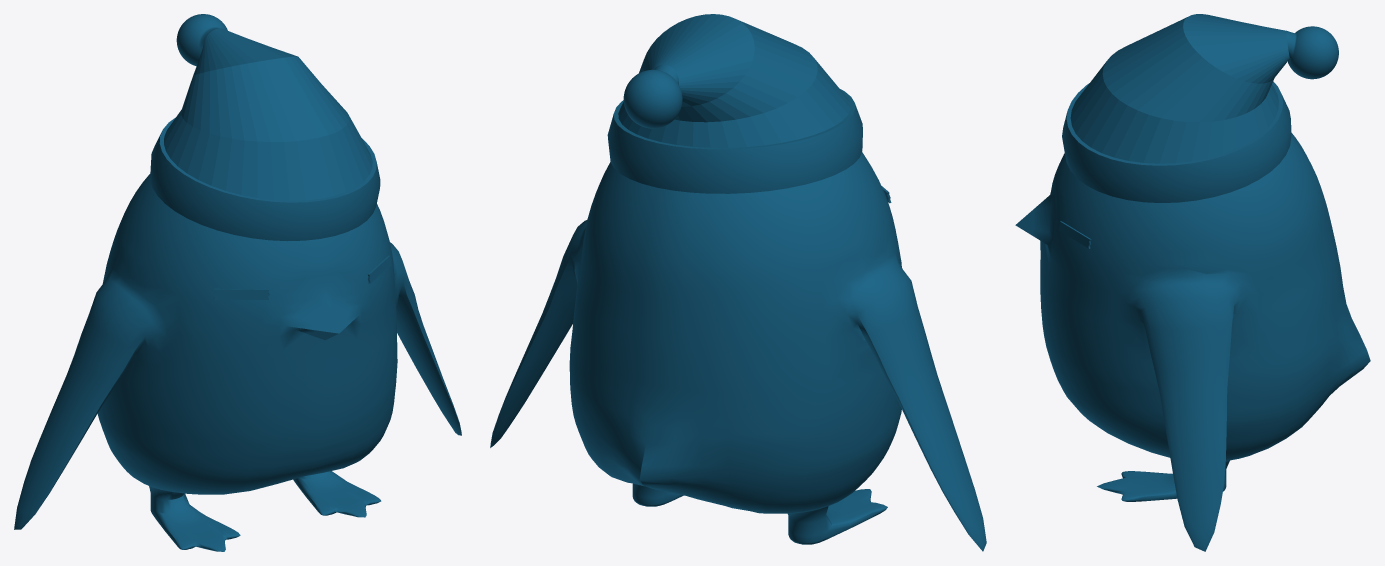
Rendered from penguin_blue_idle_34f.fbx.
3 views of the same model, side by side, from view 1: azimuth 30°, elevation 25°; view 2: azimuth 150°, elevation 25°; view 3: azimuth 270°, elevation 25° (orthographic). The views are drawn at different scales.
Visible parts, largest first — view 1: ppp_34, bousi, ai; view 2: ppp_34, bousi; view 3: ppp_34, bousi.
Part boxes in pixels (x1,y1,x2,y2): ppp_34: (14,174,461,551); bousi: (150,14,380,241); ai: (213,255,390,299); ppp_34: (490,152,986,551); bousi: (607,14,862,193); ppp_34: (1015,132,1370,551); bousi: (1062,14,1338,202).
Bounding box in the file's own units: 21.16 × 20.1 × 14.74.
1 material, 1 textured.
